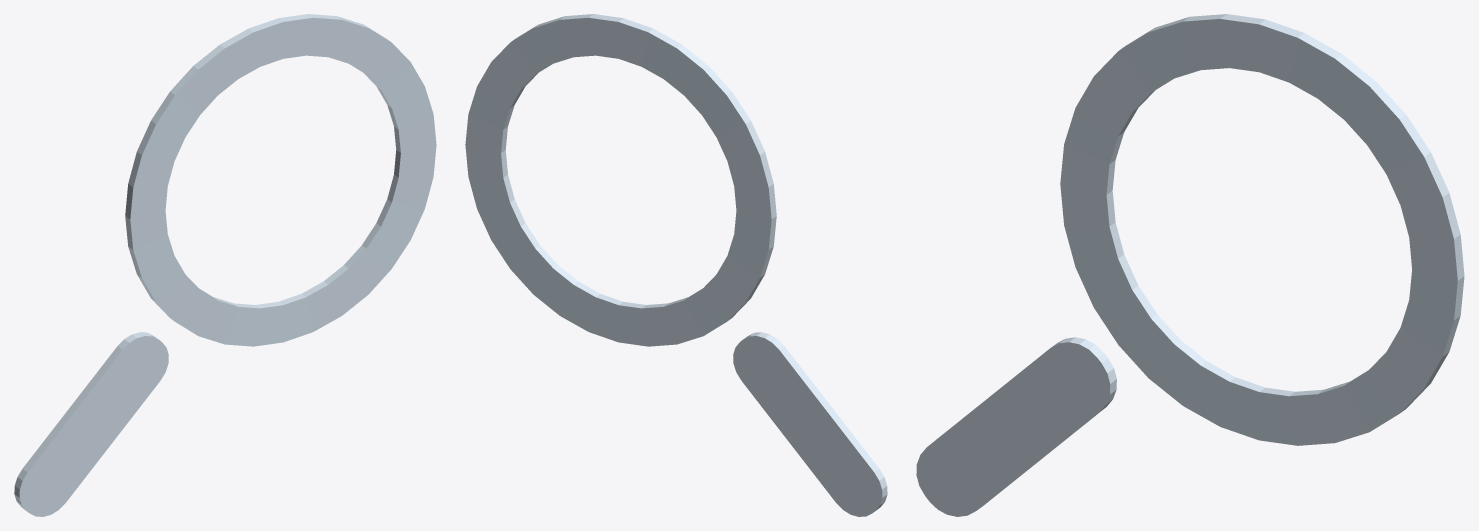
Rendered from Search_3D_Icon.fbx.
3 views of the same model, side by side, from view 1: azimuth 30°, elevation 25°; view 2: azimuth 150°, elevation 25°; view 3: azimuth 330°, elevation 25° (orthographic). The views are drawn at different scales.
Parts seen in each view (by area): view 1: Search_3D_Icon; view 2: Search_3D_Icon; view 3: Search_3D_Icon.
Boxes of the visible parts, x1,y1,x2,y2 form: Search_3D_Icon: (14,14,436,516); Search_3D_Icon: (465,14,887,516); Search_3D_Icon: (916,14,1464,516).
Bounding box in the file's own units: 89.25 × 89.25 × 1.93.
